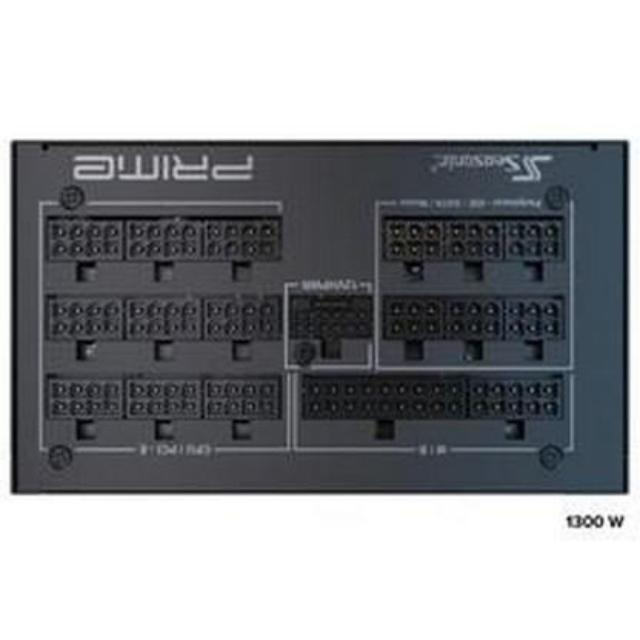PSU: (0, 122, 640, 516)
